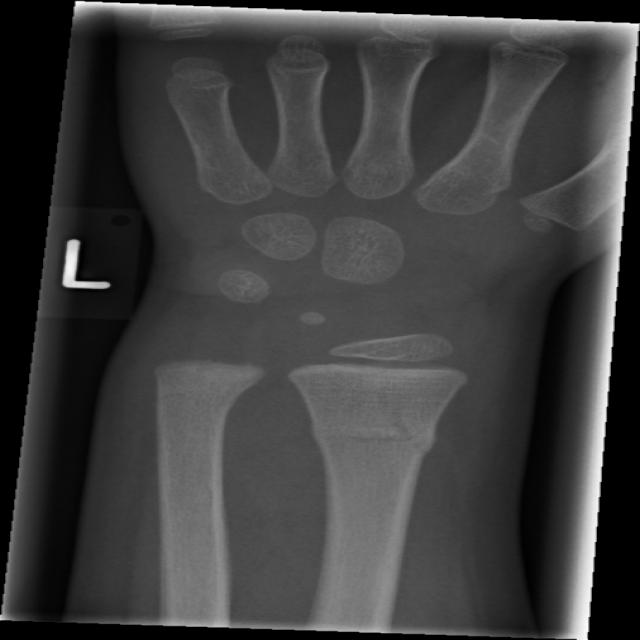radius fracture: (289, 392, 475, 505)
